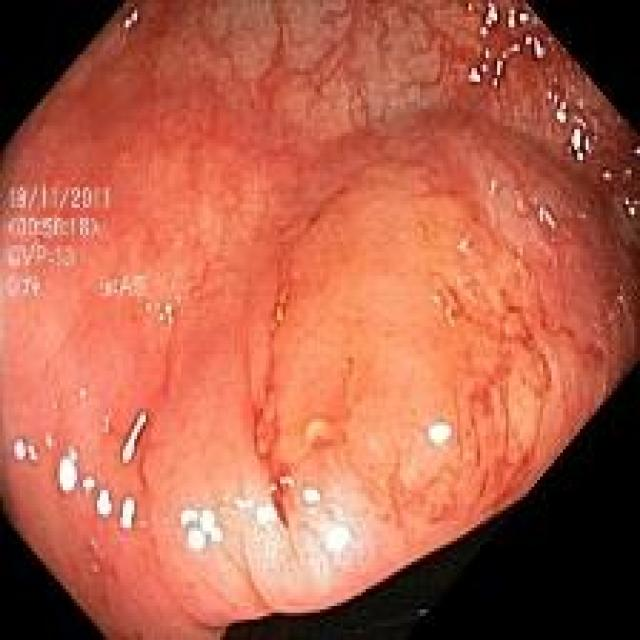Polyps: (141, 119, 640, 634)
